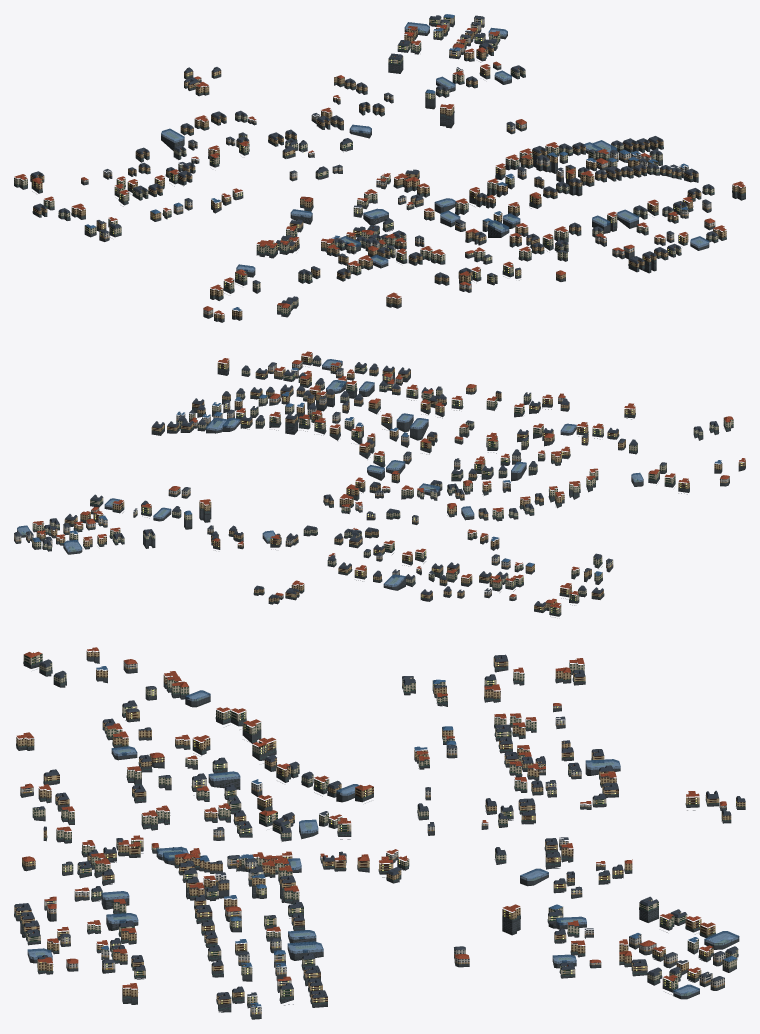
The model's file is osm_buildings_T_W02_N00_Q2.glb.
3 renders of one model, top to bottom at view 1: azimuth 30°, elevation 25°; view 2: azimuth 150°, elevation 25°; view 3: azimuth 270°, elevation 25°, orthographic. The views are drawn at different scales.
Parts seen in each view (by area): view 1: OSM_T_W02_N00_Q2_foundation, OSM_T_W02_N00_Q2_wall_french_ochre, OSM_T_W02_N00_Q2_wall_cream_stucco, OSM_T_W02_N00_Q2_roof_mansard_slate, OSM_T_W02_N00_Q2_roof_terracotta, OSM_T_W02_N00_Q2_greenhouse_blend, OSM_T_W02_N00_Q2_roof_mansard_deck, OSM_T_W02_N00_Q2_roof_mint_metal, OSM_T_W02_N00_Q2_wall_pastel_sand, OSM_T_W02_N00_Q2_wall_warm_white, OSM_T_W02_N00_Q2_trim_cornice, OSM_T_W02_N00_Q2_roof_alpine_blue (+1 smaller); view 2: OSM_T_W02_N00_Q2_foundation, OSM_T_W02_N00_Q2_wall_french_ochre, OSM_T_W02_N00_Q2_wall_cream_stucco, OSM_T_W02_N00_Q2_roof_terracotta, OSM_T_W02_N00_Q2_roof_mansard_slate, OSM_T_W02_N00_Q2_greenhouse_blend, OSM_T_W02_N00_Q2_roof_mansard_deck, OSM_T_W02_N00_Q2_roof_mint_metal, OSM_T_W02_N00_Q2_wall_pastel_sand, OSM_T_W02_N00_Q2_trim_cornice, OSM_T_W02_N00_Q2_wall_warm_white, OSM_T_W02_N00_Q2_balcony_railing (+2 smaller); view 3: OSM_T_W02_N00_Q2_foundation, OSM_T_W02_N00_Q2_wall_french_ochre, OSM_T_W02_N00_Q2_wall_cream_stucco, OSM_T_W02_N00_Q2_roof_mansard_slate, OSM_T_W02_N00_Q2_roof_terracotta, OSM_T_W02_N00_Q2_greenhouse_blend, OSM_T_W02_N00_Q2_roof_mansard_deck, OSM_T_W02_N00_Q2_wall_pastel_sand, OSM_T_W02_N00_Q2_trim_cornice, OSM_T_W02_N00_Q2_roof_mint_metal, OSM_T_W02_N00_Q2_wall_warm_white, OSM_T_W02_N00_Q2_balcony_railing (+2 smaller).
Boxes of the visible parts, x1,y1,x2,y2 form: OSM_T_W02_N00_Q2_foundation: (14,21,745,322); OSM_T_W02_N00_Q2_wall_french_ochre: (30,27,745,319); OSM_T_W02_N00_Q2_wall_cream_stucco: (14,16,718,313); OSM_T_W02_N00_Q2_roof_mansard_slate: (31,15,717,304); OSM_T_W02_N00_Q2_roof_terracotta: (14,25,745,314); OSM_T_W02_N00_Q2_greenhouse_blend: (161,22,709,272); OSM_T_W02_N00_Q2_roof_mansard_deck: (32,15,716,302); OSM_T_W02_N00_Q2_roof_mint_metal: (14,22,745,314); OSM_T_W02_N00_Q2_wall_pastel_sand: (81,18,711,315); OSM_T_W02_N00_Q2_wall_warm_white: (103,22,715,253); OSM_T_W02_N00_Q2_trim_cornice: (15,17,742,312); OSM_T_W02_N00_Q2_roof_alpine_blue: (85,14,688,310); OSM_T_W02_N00_Q2_foundation: (14,362,745,616); OSM_T_W02_N00_Q2_wall_french_ochre: (36,353,745,610); OSM_T_W02_N00_Q2_wall_cream_stucco: (32,359,733,613); OSM_T_W02_N00_Q2_roof_terracotta: (33,351,745,607); OSM_T_W02_N00_Q2_roof_mansard_slate: (14,356,718,606); OSM_T_W02_N00_Q2_greenhouse_blend: (17,359,643,586); OSM_T_W02_N00_Q2_roof_mansard_deck: (20,355,717,604); OSM_T_W02_N00_Q2_roof_mint_metal: (33,362,733,614); OSM_T_W02_N00_Q2_wall_pastel_sand: (14,363,729,598); OSM_T_W02_N00_Q2_trim_cornice: (18,353,742,617); OSM_T_W02_N00_Q2_wall_warm_white: (26,361,520,595); OSM_T_W02_N00_Q2_balcony_railing: (34,358,743,612); OSM_T_W02_N00_Q2_foundation: (14,656,745,1019); OSM_T_W02_N00_Q2_wall_french_ochre: (14,650,745,1004); OSM_T_W02_N00_Q2_wall_cream_stucco: (23,653,738,1003); OSM_T_W02_N00_Q2_roof_mansard_slate: (14,655,745,999); OSM_T_W02_N00_Q2_roof_terracotta: (17,647,726,988); OSM_T_W02_N00_Q2_greenhouse_blend: (27,690,739,995); OSM_T_W02_N00_Q2_roof_mansard_deck: (15,654,744,996); OSM_T_W02_N00_Q2_wall_pastel_sand: (20,661,726,1014); OSM_T_W02_N00_Q2_trim_cornice: (14,652,745,1012); OSM_T_W02_N00_Q2_roof_mint_metal: (15,660,745,1009); OSM_T_W02_N00_Q2_wall_warm_white: (47,718,712,983); OSM_T_W02_N00_Q2_balcony_railing: (19,651,736,1012).
Size of the model in its own units: 985 by 100 by 916.
16 materials, 16 textured.
